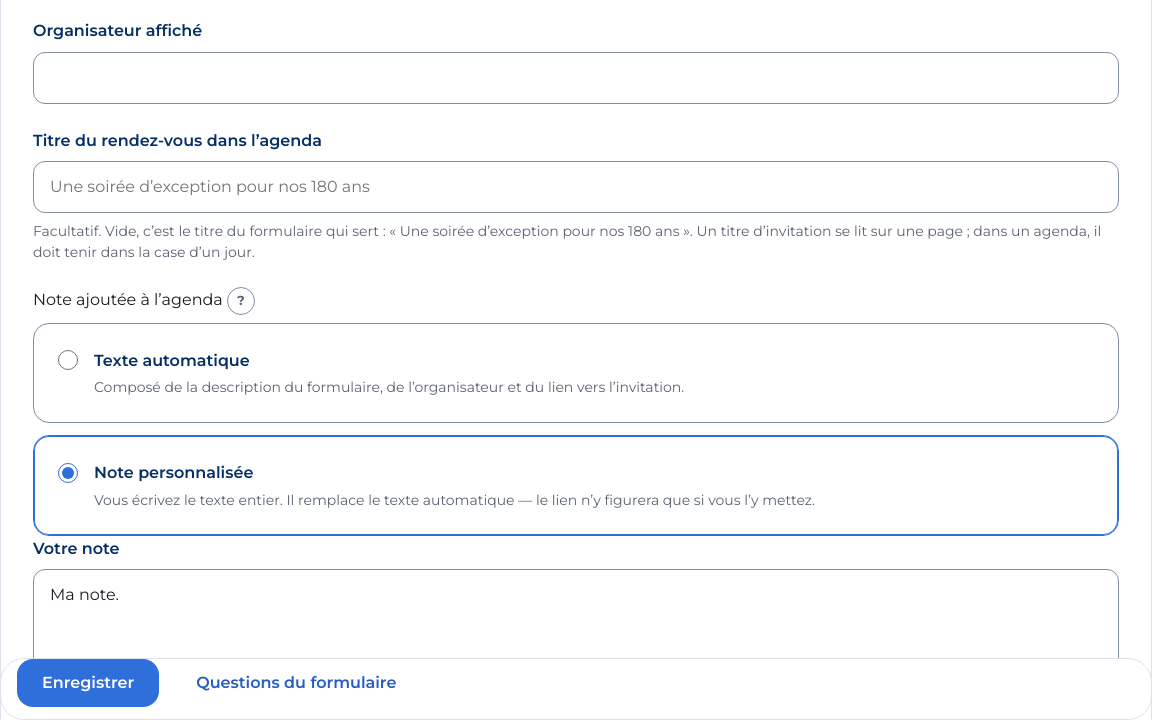
Test: note ajoutée à l’agenda › revient au texte automatique en changeant de mode
(page scrolled)
Click the radio button labelled "Texte automatique". click: (68, 360)
box: [58, 350, 78, 370]
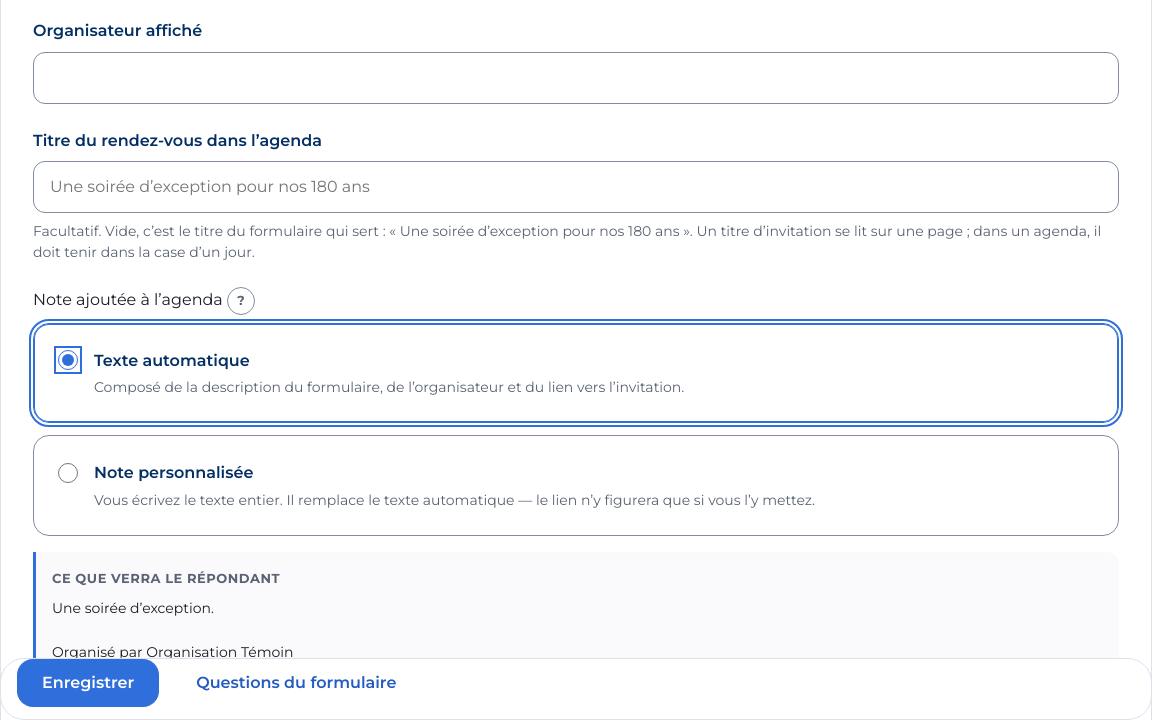
Now the label labelled "Votre note" is gone
Now the text "Organisé par Organisation Témoin" is shown, box [52, 599, 298, 706]
